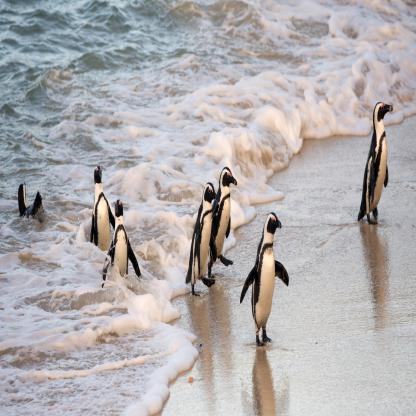Penguin: (237, 208, 295, 364), (356, 89, 397, 242), (180, 173, 222, 306), (97, 193, 146, 300), (203, 167, 244, 285), (79, 152, 118, 264)
